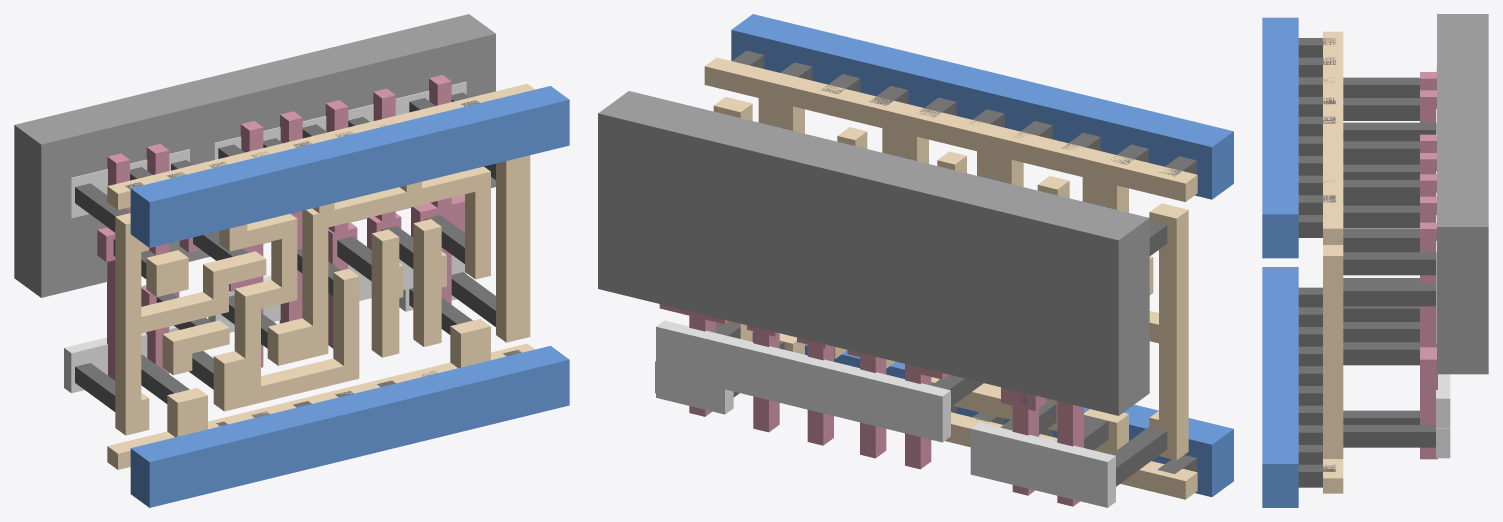
The model's file is sky130_fd_sc_hd__and4bb_1.gds.gltf.
3 views of the same model, side by side, from view 1: azimuth 30°, elevation 25°; view 2: azimuth 150°, elevation 25°; view 3: azimuth 270°, elevation 25° (orthographic). The views are drawn at different scales.
Visible parts, largest first — view 1: sky130_fd_sc_hd__and4bb_1_li1, sky130_fd_sc_hd__and4bb_1_met1, sky130_fd_sc_hd__and4bb_1_nwell, sky130_fd_sc_hd__and4bb_1_licon, sky130_fd_sc_hd__and4bb_1_poly, sky130_fd_sc_hd__and4bb_1_diff, sky130_fd_sc_hd__and4bb_1_mcon; view 2: sky130_fd_sc_hd__and4bb_1_nwell, sky130_fd_sc_hd__and4bb_1_li1, sky130_fd_sc_hd__and4bb_1_met1, sky130_fd_sc_hd__and4bb_1_diff, sky130_fd_sc_hd__and4bb_1_poly, sky130_fd_sc_hd__and4bb_1_mcon, sky130_fd_sc_hd__and4bb_1_licon; view 3: sky130_fd_sc_hd__and4bb_1_licon, sky130_fd_sc_hd__and4bb_1_nwell, sky130_fd_sc_hd__and4bb_1_met1, sky130_fd_sc_hd__and4bb_1_mcon, sky130_fd_sc_hd__and4bb_1_li1, sky130_fd_sc_hd__and4bb_1_poly, sky130_fd_sc_hd__and4bb_1_diff.
Boxes of the visible parts, <box> form: sky130_fd_sc_hd__and4bb_1_li1: <box>107,83,534,469</box>; sky130_fd_sc_hd__and4bb_1_met1: <box>130,86,569,507</box>; sky130_fd_sc_hd__and4bb_1_nwell: <box>14,14,495,297</box>; sky130_fd_sc_hd__and4bb_1_licon: <box>75,92,495,411</box>; sky130_fd_sc_hd__and4bb_1_poly: <box>97,75,464,380</box>; sky130_fd_sc_hd__and4bb_1_diff: <box>64,81,466,393</box>; sky130_fd_sc_hd__and4bb_1_mcon: <box>125,100,521,426</box>; sky130_fd_sc_hd__and4bb_1_nwell: <box>598,91,1149,415</box>; sky130_fd_sc_hd__and4bb_1_li1: <box>704,57,1197,499</box>; sky130_fd_sc_hd__and4bb_1_met1: <box>731,14,1233,496</box>; sky130_fd_sc_hd__and4bb_1_diff: <box>655,320,1115,507</box>; sky130_fd_sc_hd__and4bb_1_poly: <box>659,304,1083,506</box>; sky130_fd_sc_hd__and4bb_1_mcon: <box>732,50,1196,473</box>; sky130_fd_sc_hd__and4bb_1_licon: <box>716,123,1167,486</box>; sky130_fd_sc_hd__and4bb_1_licon: <box>1343,77,1435,447</box>; sky130_fd_sc_hd__and4bb_1_nwell: <box>1437,14,1488,374</box>; sky130_fd_sc_hd__and4bb_1_met1: <box>1262,17,1298,507</box>; sky130_fd_sc_hd__and4bb_1_mcon: <box>1298,38,1335,487</box>; sky130_fd_sc_hd__and4bb_1_li1: <box>1323,31,1343,493</box>; sky130_fd_sc_hd__and4bb_1_poly: <box>1420,72,1437,459</box>; sky130_fd_sc_hd__and4bb_1_diff: <box>1436,67,1450,458</box>.
Size of the model in its own units: 4.98 by 3.2 by 2.24.
